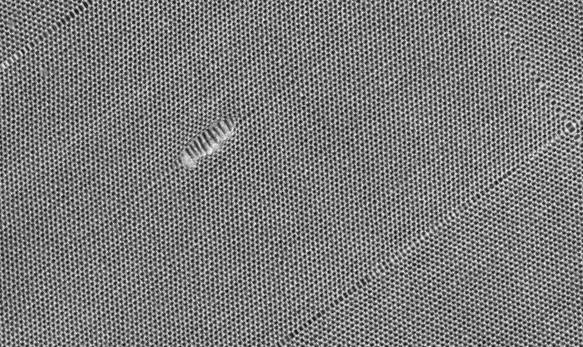slub: (173, 109, 245, 178)
